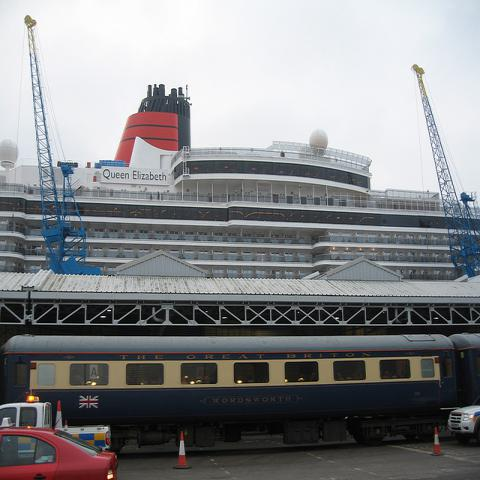car: (0, 429, 118, 475)
truck: (1, 399, 112, 447), (448, 394, 479, 444)
